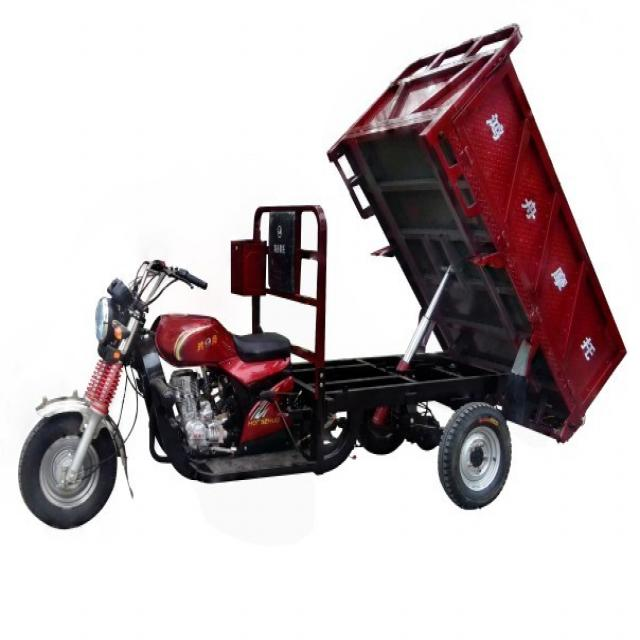tricycle: (18, 19, 626, 532)
